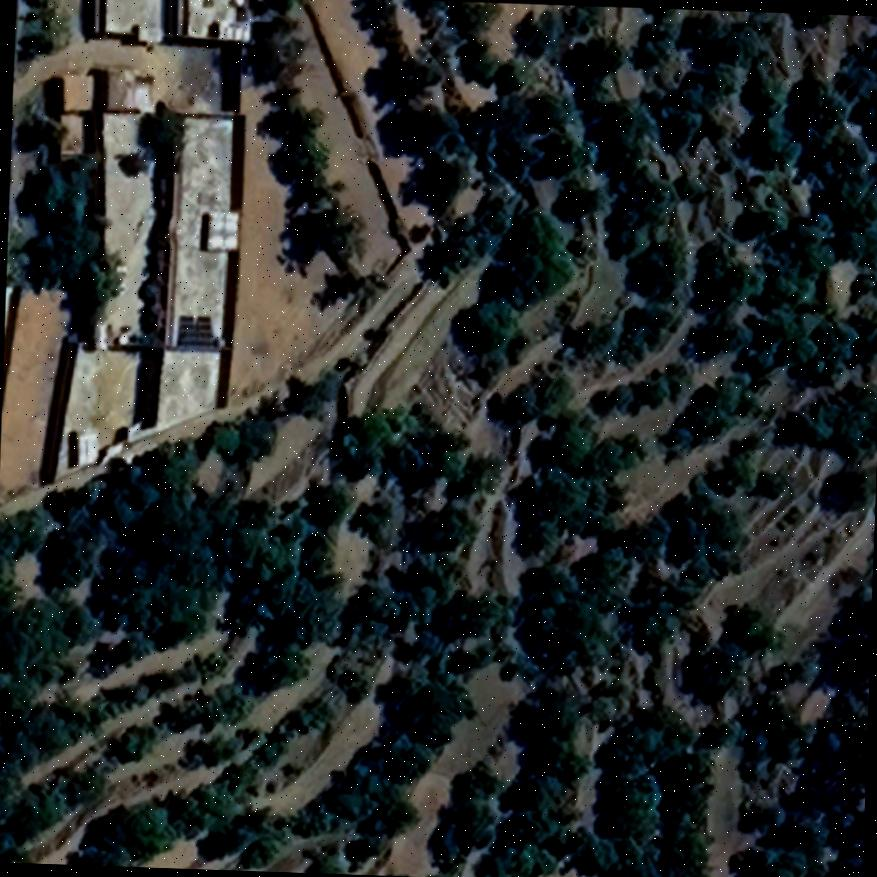Solarpanel: (173, 312, 216, 350)
